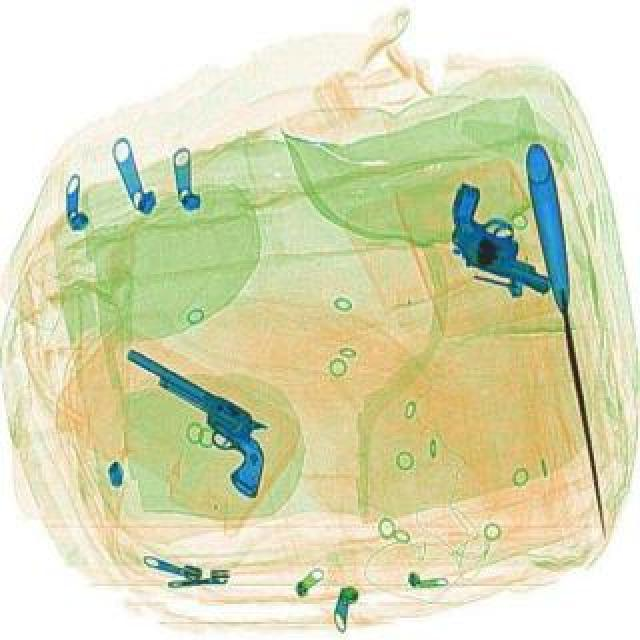gun: (94, 342, 300, 498), (434, 178, 576, 292)
knife: (524, 140, 622, 536)
